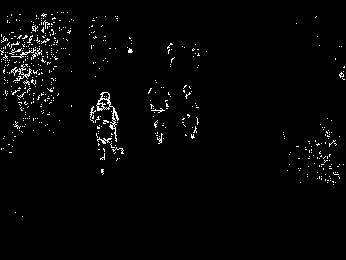person: (89, 90, 126, 174), (147, 76, 170, 144), (180, 83, 200, 141)
